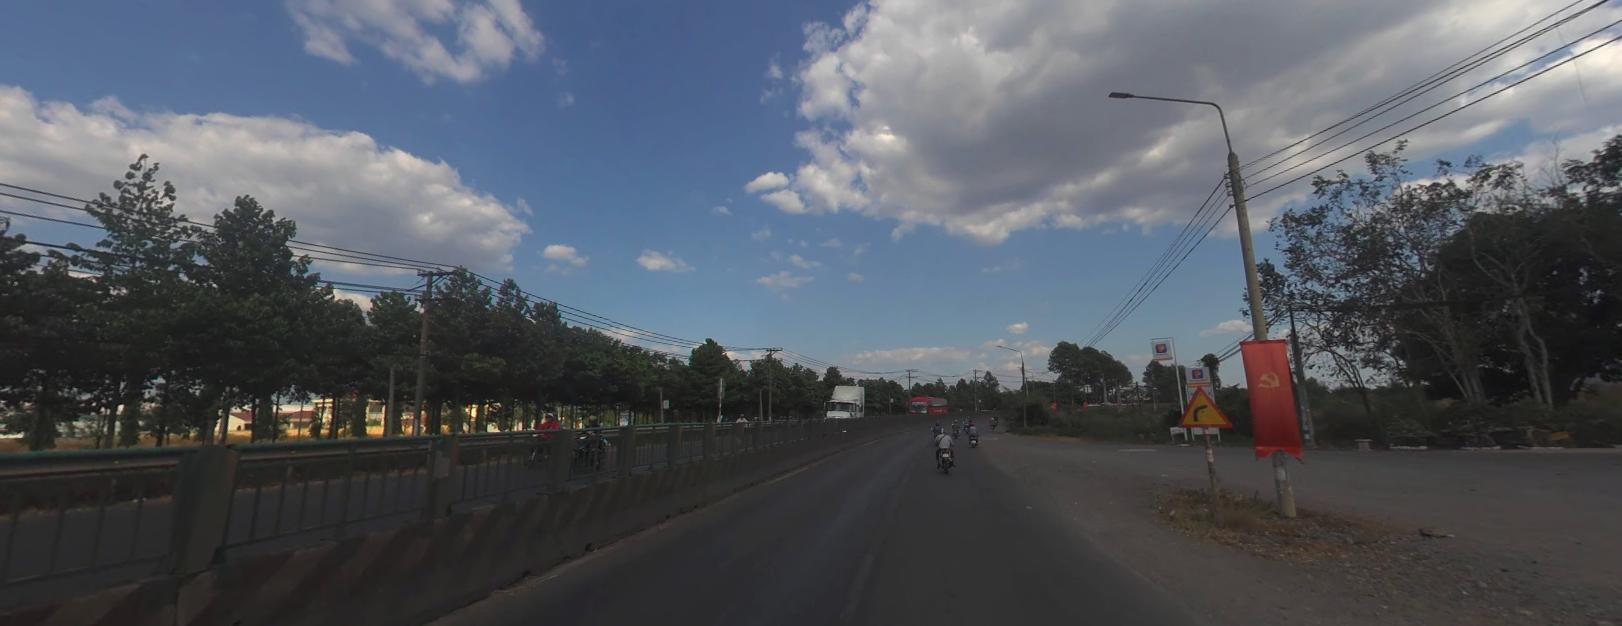Nguy hiem: (1177, 382, 1234, 429), (1176, 384, 1231, 425)
